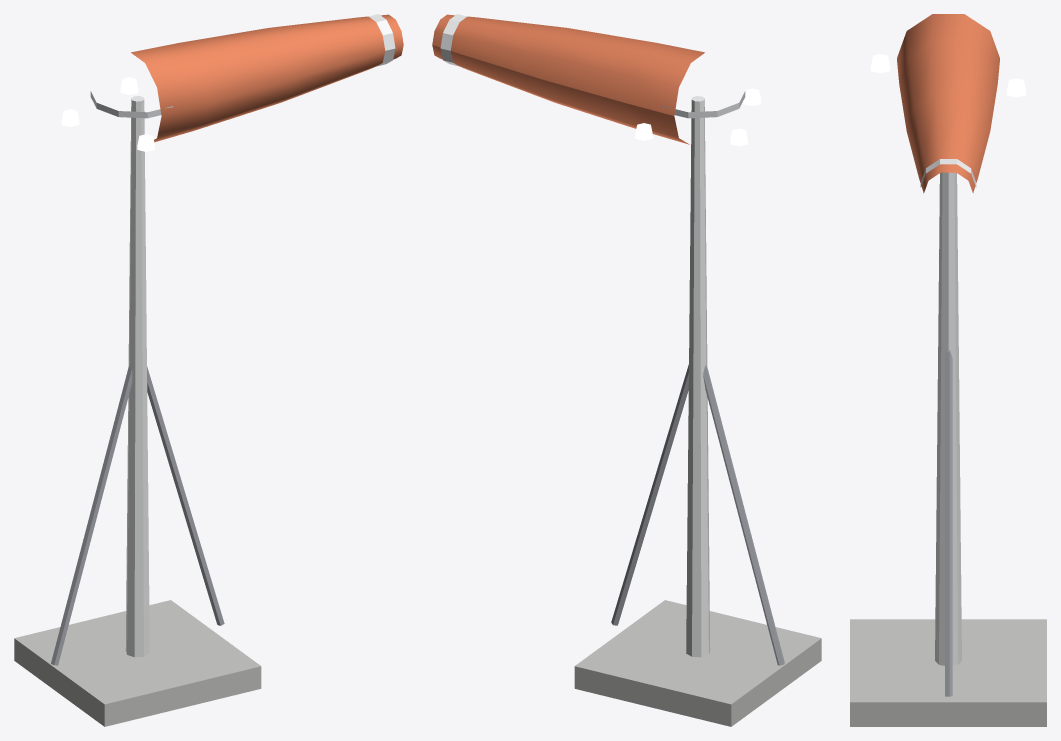
Rendered from AirportWindsock.glb.
3 renders of one model, left to right at view 1: azimuth 30°, elevation 25°; view 2: azimuth 150°, elevation 25°; view 3: azimuth 270°, elevation 25°, orthographic. The views are drawn at different scales.
Parts seen in each view (by area): view 1: windsock-mast, windsockaccent; view 2: windsock-mast, windsockaccent; view 3: windsock-mast, windsockaccent, windsockshell.
Part boxes in pixels (box(x1,y1,x2,y2)): windsock-mast: box(14, 77, 261, 726); windsockaccent: box(131, 14, 403, 142); windsock-mast: box(574, 88, 821, 726); windsockaccent: box(432, 14, 704, 144); windsock-mast: box(850, 54, 1046, 726); windsockaccent: box(897, 14, 999, 193); windsockshell: box(920, 159, 976, 187).
Bounding box in the file's own units: 1.88 × 3.25 × 0.8639.
